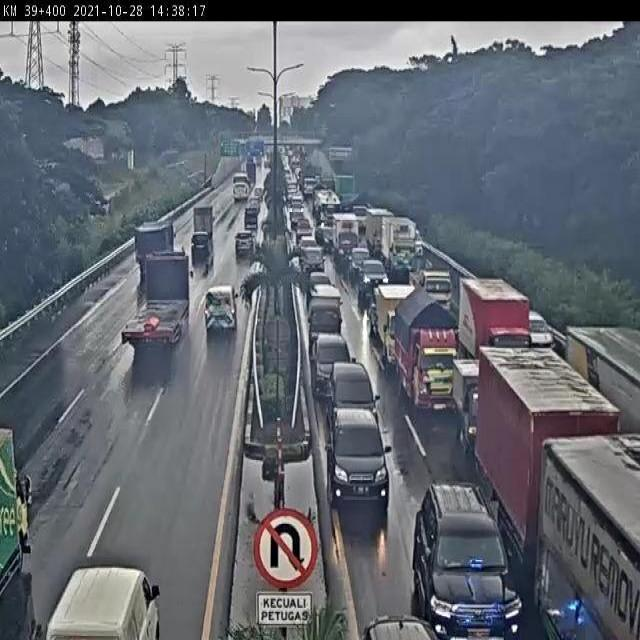big bus: (230, 172, 253, 208)
big truck: (482, 344, 640, 640), (568, 318, 640, 426), (0, 413, 34, 640), (120, 251, 199, 348), (459, 274, 537, 369), (392, 291, 452, 413), (130, 218, 177, 266)
car: (419, 486, 508, 634), (44, 554, 172, 640), (329, 407, 396, 522), (329, 361, 376, 432), (311, 325, 355, 399), (368, 606, 435, 640), (202, 286, 240, 334), (531, 306, 554, 346), (233, 229, 256, 263), (191, 230, 212, 258)
small truck: (452, 360, 500, 451), (195, 205, 216, 235), (239, 206, 263, 230)
